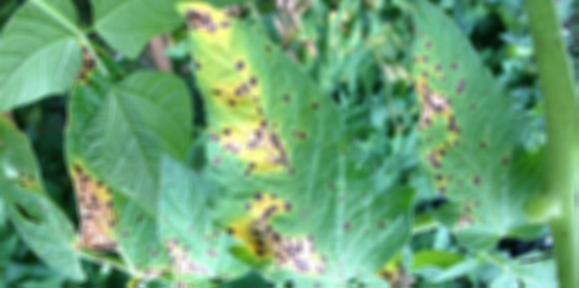Tomato Septoria leaf spot: (177, 2, 381, 282), (401, 5, 527, 255), (164, 144, 223, 288)
Tomato leaf: (0, 0, 85, 123)
